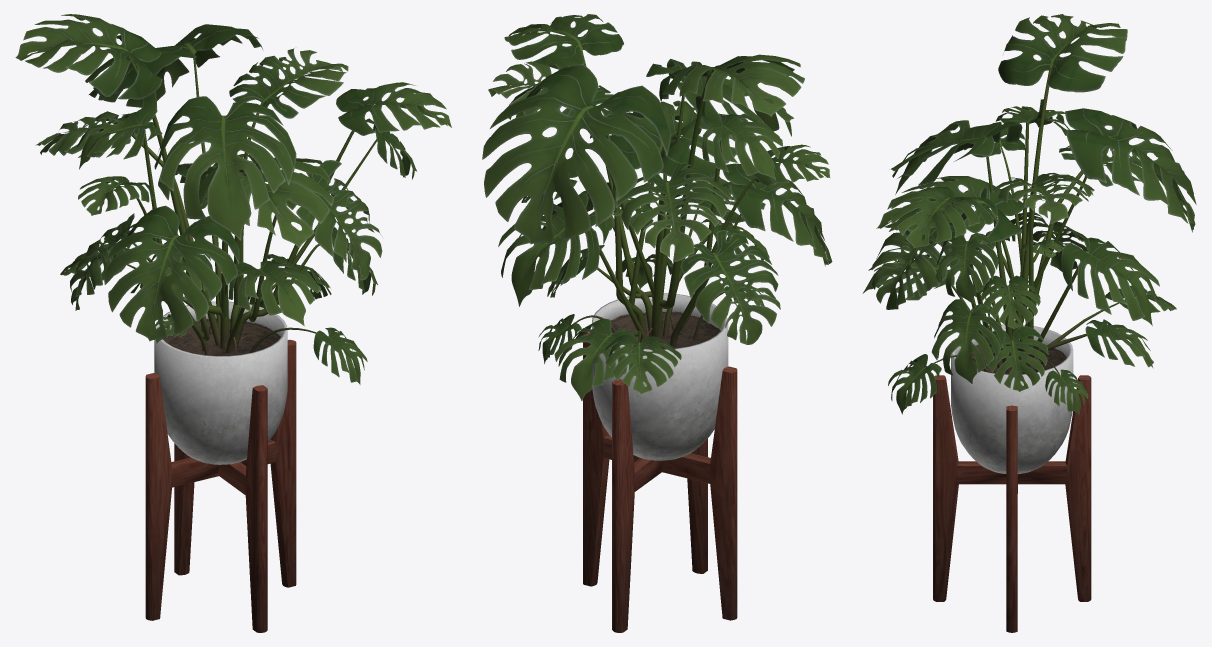
File: plant_monstera_deliciosa_potted_mid_giora.glb
3 views of the same model, side by side, from view 1: azimuth 30°, elevation 25°; view 2: azimuth 150°, elevation 25°; view 3: azimuth 270°, elevation 25° (orthographic). The views are drawn at different scales.
Visible parts, largest first — view 1: Leaves_Mat.1_0, Stand_Mat_0, root_HP_1_Mat.2_0; view 2: Leaves_Mat.1_0, Stand_Mat_0, root_HP_1_Mat.2_0; view 3: Leaves_Mat.1_0, Stand_Mat_0, root_HP_1_Mat.2_0.
Part boxes in pixels (x1,y1,x2,y2): Leaves_Mat.1_0: (15,14,451,384); Stand_Mat_0: (145,301,296,632); root_HP_1_Mat.2_0: (124,53,376,355); Leaves_Mat.1_0: (482,14,832,400); Stand_Mat_0: (583,293,737,632); root_HP_1_Mat.2_0: (559,50,755,346); Leaves_Mat.1_0: (862,14,1196,414); Stand_Mat_0: (933,324,1091,632); root_HP_1_Mat.2_0: (933,68,1124,375).
Bounding box in the file's own units: 0.8695 × 1.36 × 0.7911.
3 materials, 3 textured.
